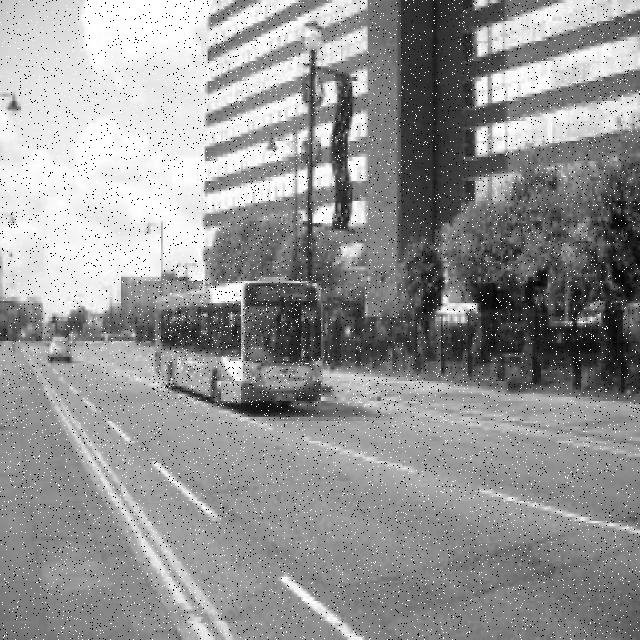Bus: (153, 276, 320, 407)
